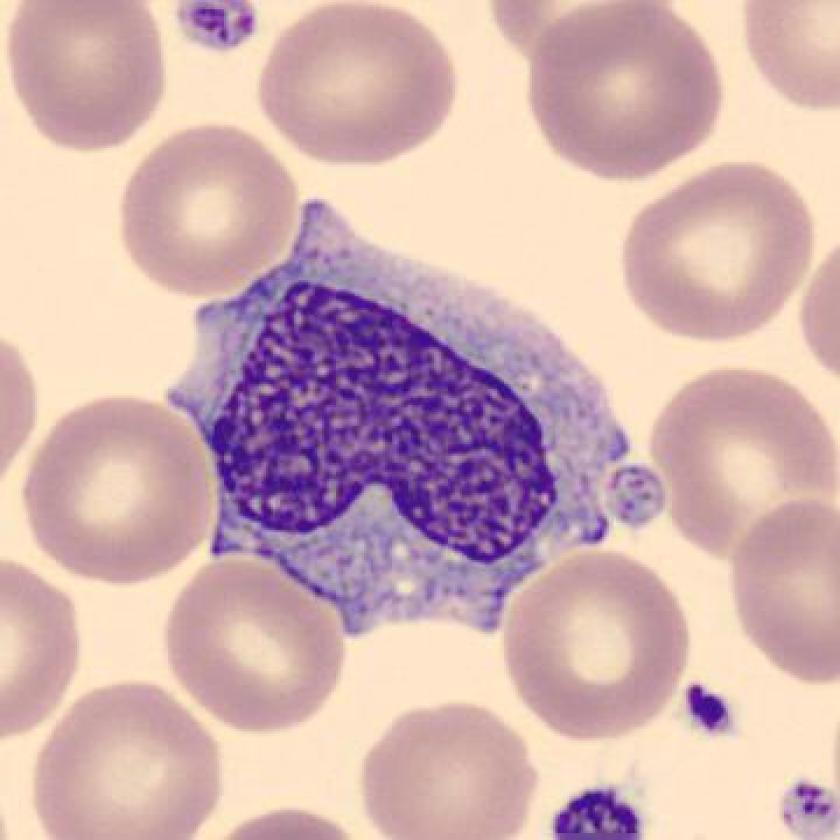monocyte: (146, 163, 668, 658)
